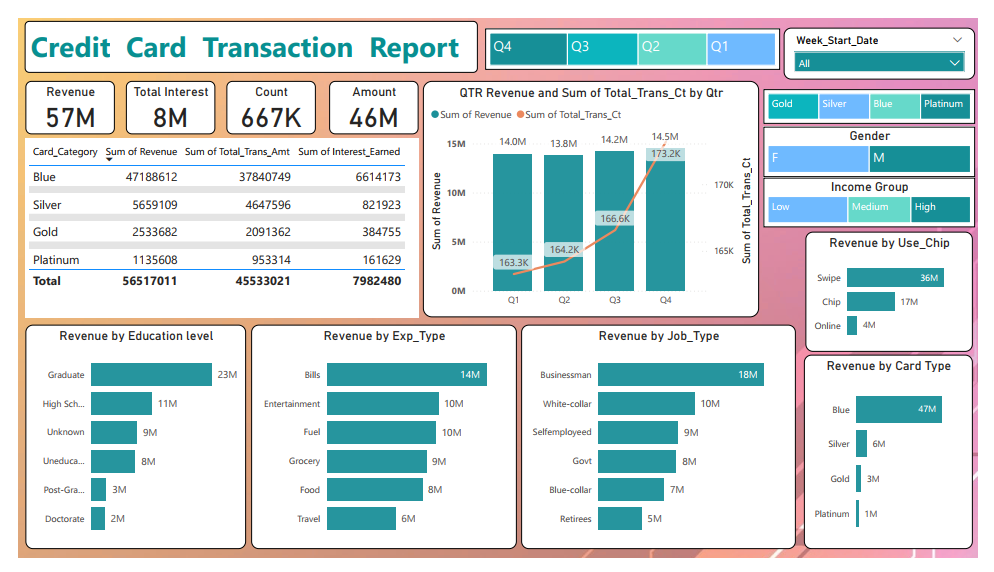

Layout of this report page (visuals, bound fields, positions):
{"tool":"powerbi","page":{"name":"CC Transaction","canvas":[1280,720],"ordinal":0},"visuals":[{"type":"textbox","box":[8.6,4.3,604.8,69.1],"z":0},{"type":"lineStackedColumnComboChart","title":"QTR Revenue and Sum of Total_Trans_Ct by Qtr","fields":{"Category":["ccdb cc_details.Qtr"],"Y":["Sum(ccdb cc_details.Revenue)"],"Y2":["Sum(ccdb cc_details.Total_Trans_Ct)"]},"box":[540,83.5,447.8,315.4],"z":1000},{"type":"barChart","title":"Revenue by Exp_Type","fields":{"Category":["ccdb cc_details.Exp_Type"],"Y":["Sum(ccdb cc_details.Revenue)"]},"box":[311,409,354.2,299.5],"z":2000},{"type":"barChart","title":"Revenue by Job_Type","fields":{"Y":["Sum(ccdb cc_details.Revenue)"],"Category":["ccdb cust_details.Customer_Job"]},"box":[671,409,365.8,299.5],"z":3000},{"type":"barChart","title":"Revenue by Education level","fields":{"Y":["Sum(ccdb cc_details.Revenue)"],"Category":["ccdb cust_details.Education_Level"]},"box":[10.1,409,293.8,299.5],"z":4000},{"type":"barChart","title":"Revenue by Use_Chip","fields":{"Y":["Sum(ccdb cc_details.Revenue)"],"Category":["ccdb cc_details.Use_Chip"]},"box":[1049.8,285.1,223.2,159.8],"z":5000},{"type":"barChart","title":"Revenue by Card Type","fields":{"Y":["Sum(ccdb cc_details.Revenue)"],"Category":["ccdb cc_details.Card_Category"]},"box":[1048.3,449.3,224.6,259.2],"z":6000},{"type":"tableEx","fields":{"Values":["ccdb cc_details.Card_Category","Sum(ccdb cc_details.Revenue)","Sum(ccdb cc_details.Total_Trans_Amt)","Sum(ccdb cc_details.Interest_Earned)"]},"box":[9.4,159.8,524.2,239],"z":7000},{"type":"card","title":"Revenue","fields":{"Values":["Sum(ccdb cc_details.Revenue)"]},"box":[9.7,84,119.3,70.7],"z":8000},{"type":"card","title":"Total Interest","fields":{"Values":["Sum(ccdb cc_details.Interest_Earned)"]},"box":[143.7,84,119.3,70.7],"z":9000},{"type":"card","title":"Count","fields":{"Values":["Sum(ccdb cc_details.Total_Trans_Ct)"]},"box":[277.7,84,119.3,70.7],"z":10000},{"type":"card","title":"Amount","fields":{"Values":["Sum(ccdb cc_details.Total_Trans_Amt)"]},"box":[414.7,84,119.3,70.7],"z":11000},{"type":"slicer","fields":{"Values":["ccdb cc_details.Week_Start_Date"]},"box":[1021,13,254.9,69.1],"z":12000},{"type":"treemap","fields":{"Group":["ccdb cc_details.Qtr"],"Values":["Avg(ccdb cc_details.Client_Num)"]},"box":[623.1,14.4,392.7,55],"z":13000},{"type":"treemap","fields":{"Values":["Avg(ccdb cc_details.Client_Num)"],"Group":["ccdb cc_details.Card_Category"]},"box":[993.6,95,282.2,46.1],"z":14000},{"type":"treemap","title":"Gender","fields":{"Values":["Avg(ccdb cc_details.Client_Num)"],"Group":["ccdb cust_details.Gender"]},"box":[993.6,145.3,282.8,66.8],"z":15000},{"type":"treemap","title":"Income Group","fields":{"Values":["CountNonNull(ccdb cc_details.Client_Num)"],"Group":["ccdb cust_details.IncomeGroup"]},"box":[993.6,213.1,282.2,66.2],"z":16000}]}

Visuals, with their boxes in screenshot pixels (x1, y1, x2, y2), scaled from the page's 1280x720 canvas onto the 994x572 screenshot:
textbox: <box>7,3,476,58</box>
"QTR Revenue and Sum of Total_Trans_Ct by Qtr" lineStackedColumnComboChart: <box>419,66,767,317</box>
"Revenue by Exp_Type" barChart: <box>242,325,517,563</box>
"Revenue by Job_Type" barChart: <box>521,325,805,563</box>
"Revenue by Education level" barChart: <box>8,325,236,563</box>
"Revenue by Use_Chip" barChart: <box>815,226,989,353</box>
"Revenue by Card Type" barChart: <box>814,357,988,563</box>
tableEx - ccdb cc_details.Card_Category x Sum(ccdb cc_details.Revenue): <box>7,127,414,317</box>
"Revenue" card: <box>8,67,100,123</box>
"Total Interest" card: <box>112,67,204,123</box>
"Count" card: <box>216,67,308,123</box>
"Amount" card: <box>322,67,415,123</box>
slicer - ccdb cc_details.Week_Start_Date: <box>793,10,991,65</box>
treemap - ccdb cc_details.Qtr x Avg(ccdb cc_details.Client_Num): <box>484,11,789,55</box>
treemap - Avg(ccdb cc_details.Client_Num) x ccdb cc_details.Card_Category: <box>772,75,991,112</box>
"Gender" treemap: <box>772,115,991,169</box>
"Income Group" treemap: <box>772,169,991,222</box>
